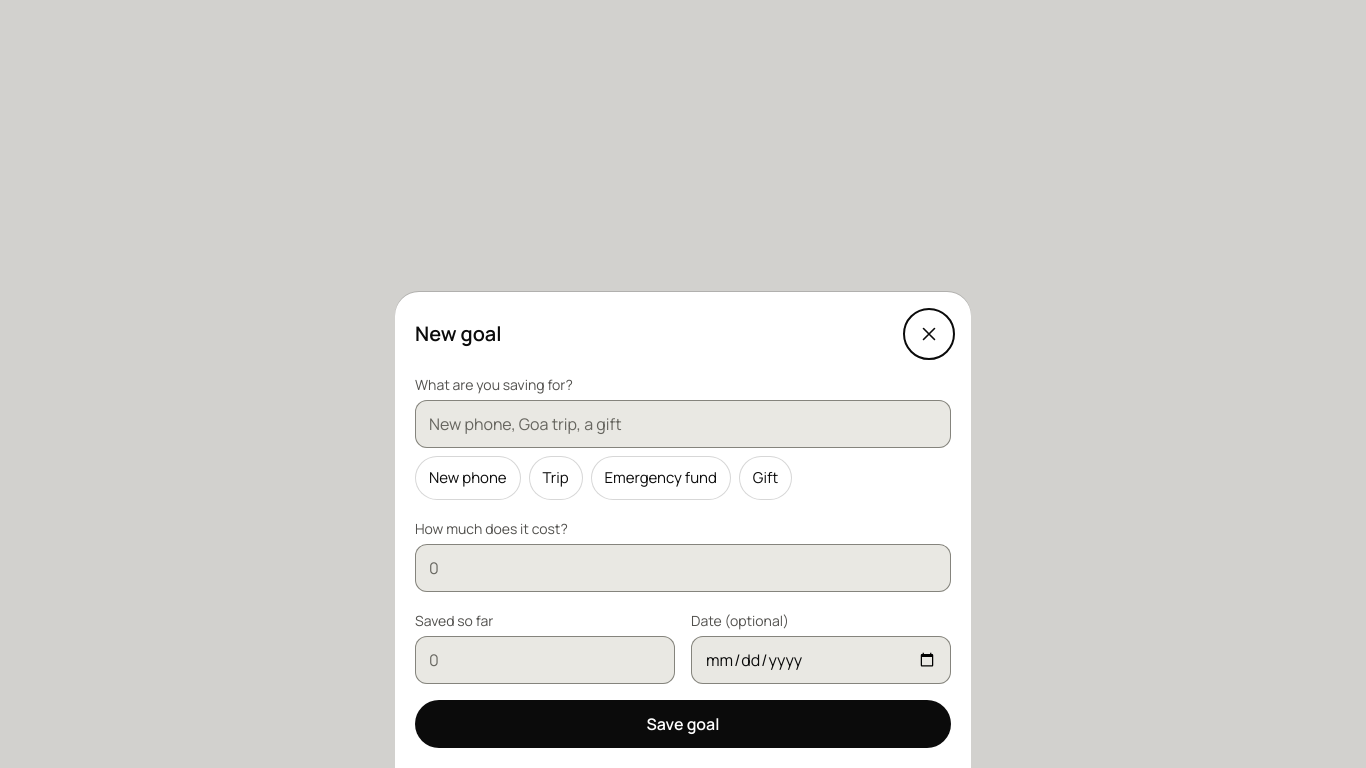
Test case: GoalSheet: making a goal › refuses no name, says why, and saves nothing
In the field labelled "How much does it cost?": (683, 568) [415,544,951,592], type "500"
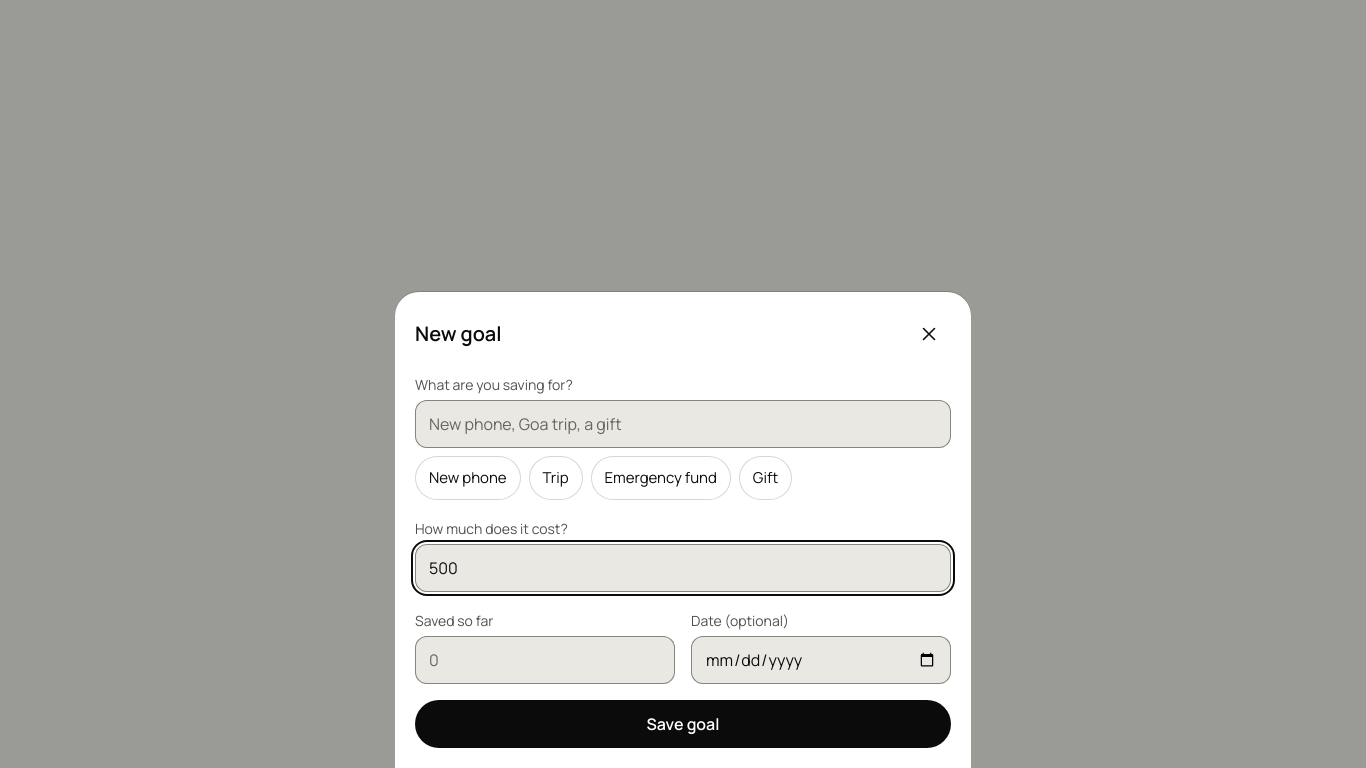
Click the button "Save goal": (683, 724) [415,700,951,748]
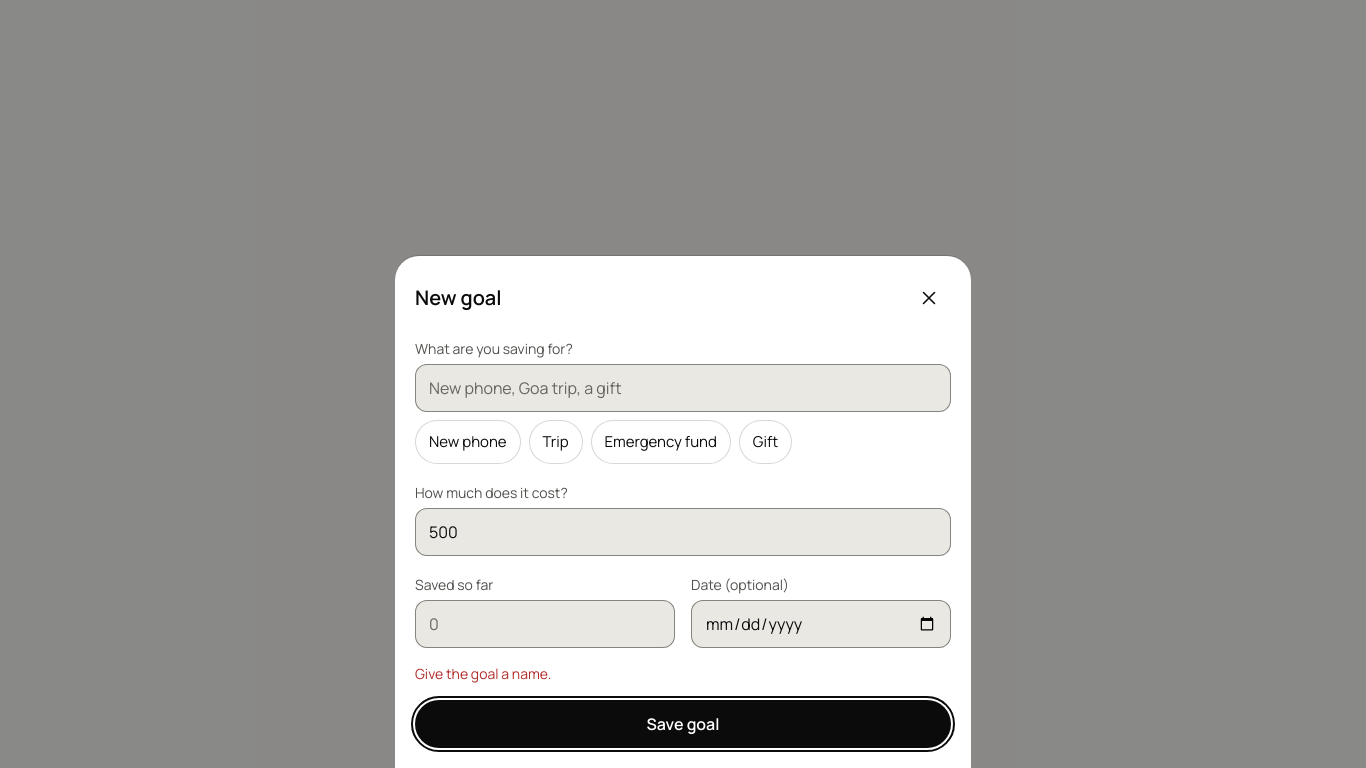
Check: the message reads "Give the goal a name.", box [415,664,551,683]
